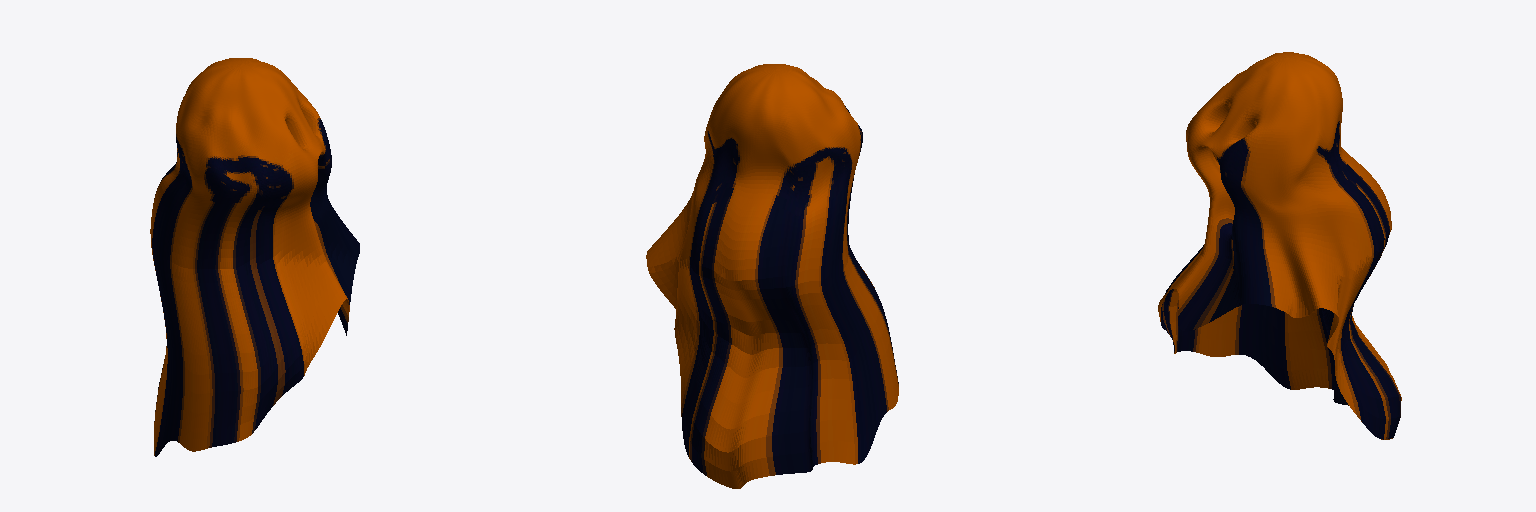
3 views of the same model, side by side, from view 1: azimuth 30°, elevation 25°; view 2: azimuth 150°, elevation 25°; view 3: azimuth 270°, elevation 25° (orthographic).
Visible parts, largest first — view 1: 球体; view 2: 球体; view 3: 球体.
Part boxes in pixels (bbox=[...]): 球体: bbox=[150, 58, 359, 456]; 球体: bbox=[646, 64, 898, 488]; 球体: bbox=[1158, 52, 1401, 439].
Size of the model in its own units: 8.62 by 15.89 by 9.14.
Materials: 1 (1 with a texture image).